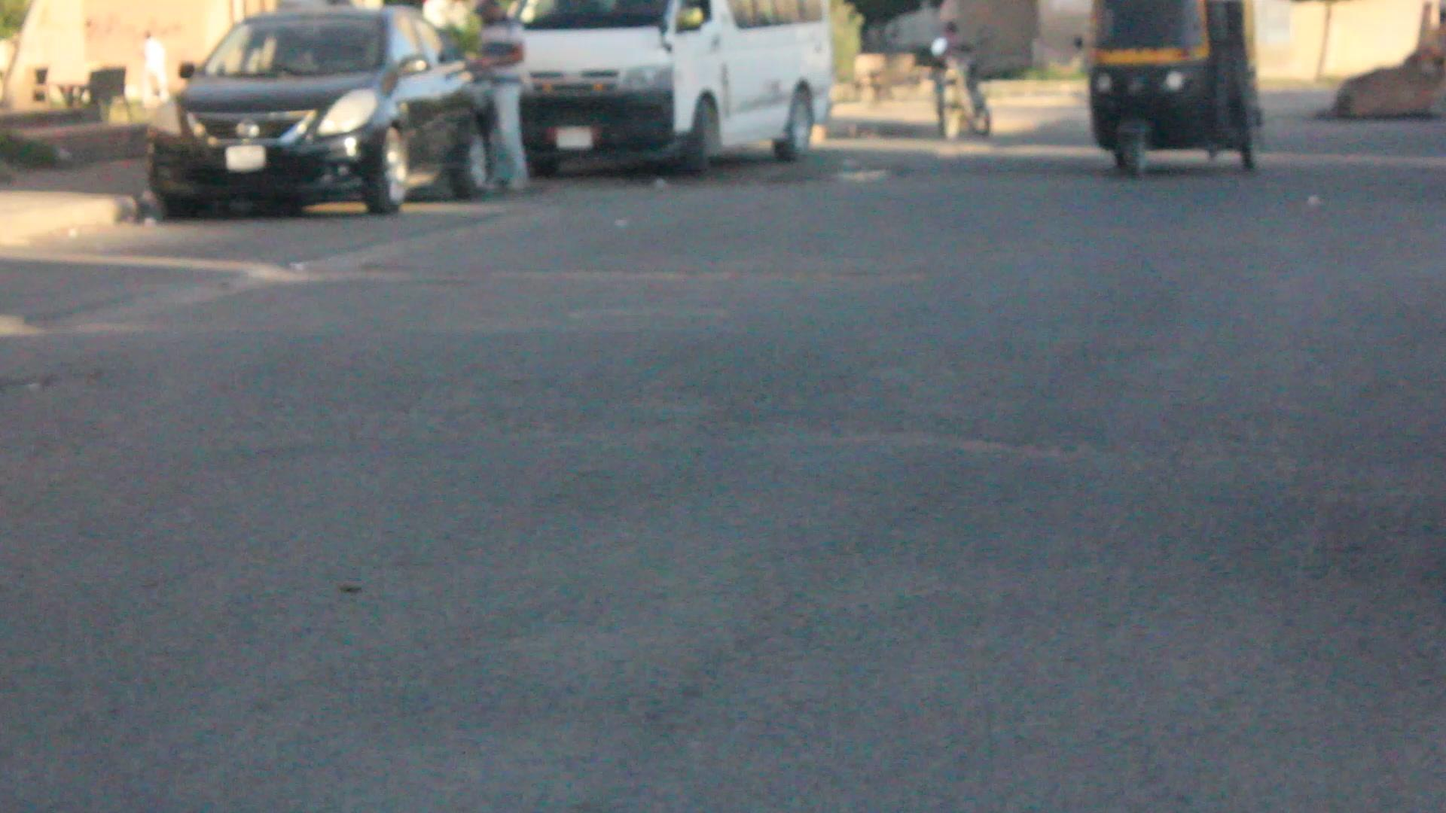Bump: (73, 329, 1446, 467)
